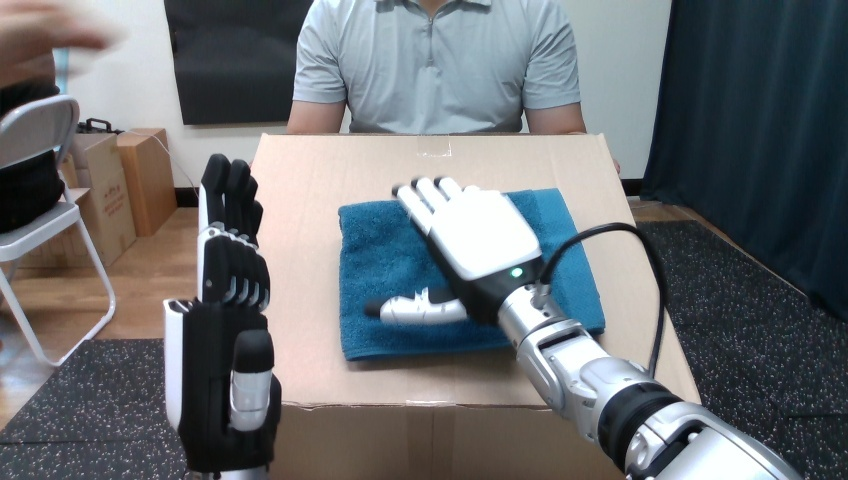left robot hand: (365, 176, 800, 479), (164, 154, 280, 478), (550, 230, 659, 369)
